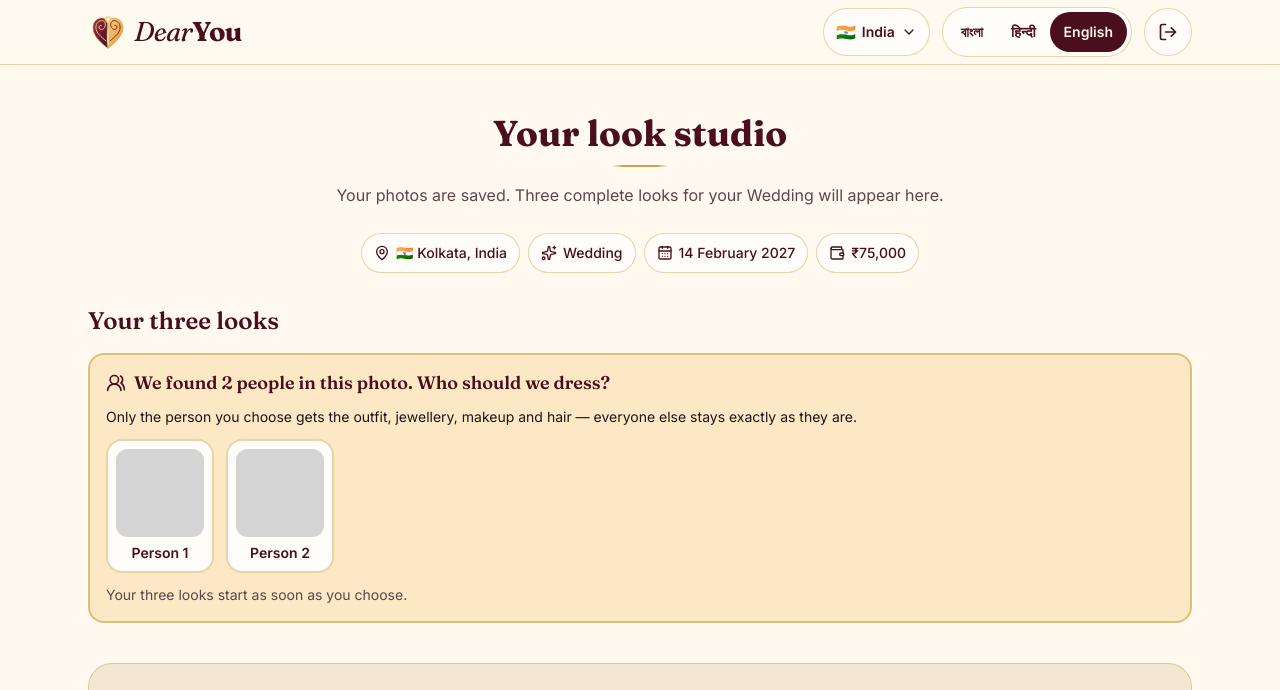
Test: who should we dress? (studio) › asks who to dress when looks need a person, then starts the looks
This screenshot has width=1280, height=690.
Check: the text "Your three looks start as soon as you choose." is shown, box [106,586,407,603]
Click the radio button labelled "Person 1" at coordinates (160, 506), box [106,439,214,573]
(page scrolled)
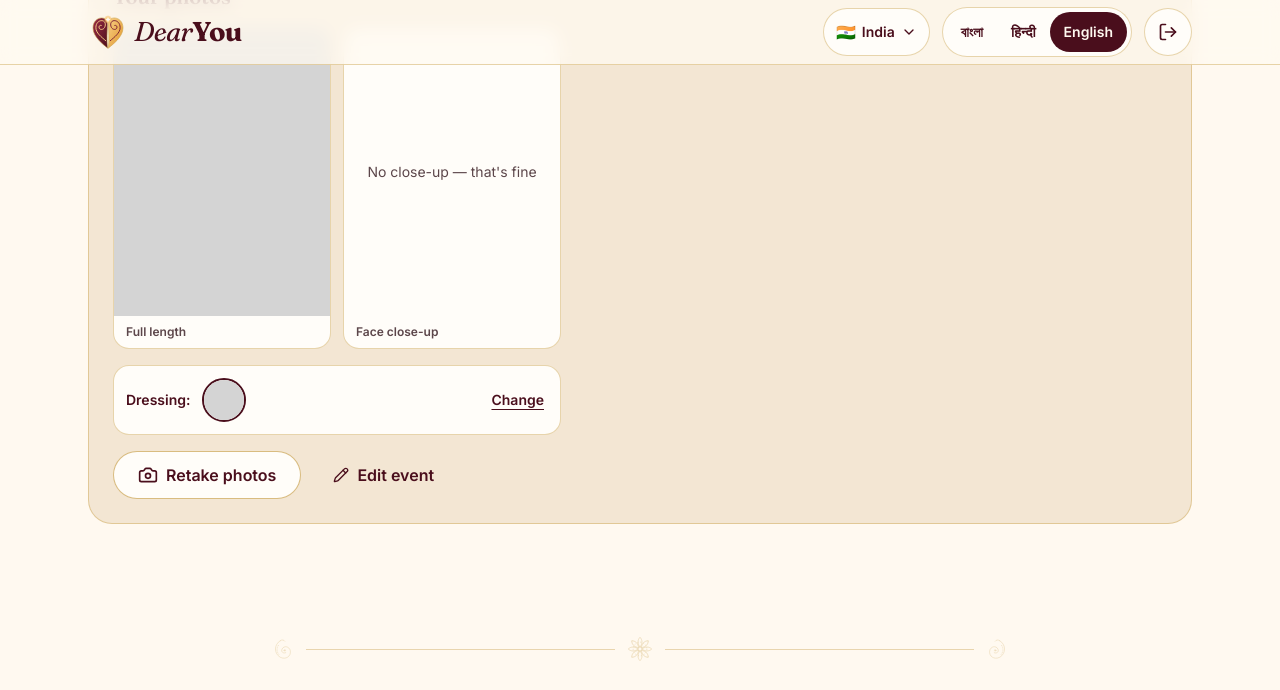
Check: the text "Your three looks start as soon as you choose." is gone
